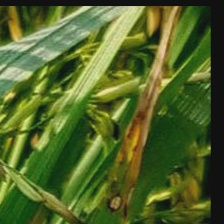Leaf_Blast: (105, 8, 189, 210)
